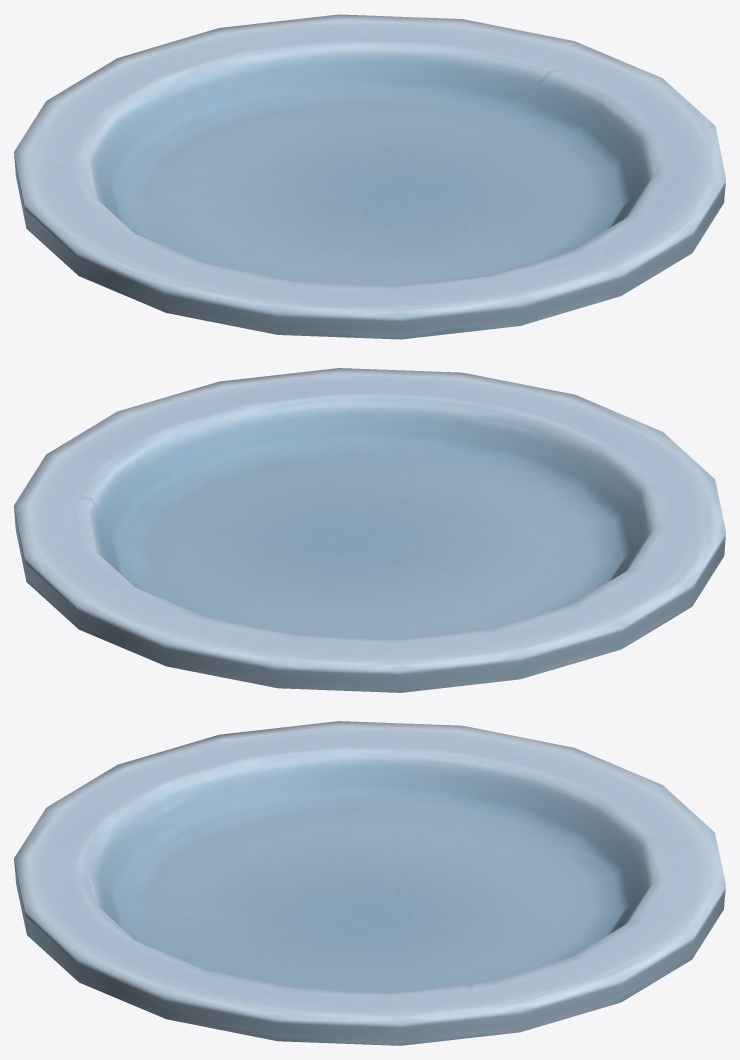
Rendered from Plate_Small.fbx.
3 renders of one model, top to bottom at view 1: azimuth 30°, elevation 25°; view 2: azimuth 150°, elevation 25°; view 3: azimuth 270°, elevation 25°, orthographic.
Visible parts, largest first — view 1: Plate_Small; view 2: Plate_Small; view 3: Plate_Small.
Part boxes in pixels (x1,y1,x2,y2): Plate_Small: (14, 14, 725, 339); Plate_Small: (14, 368, 725, 692); Plate_Small: (14, 721, 725, 1045).
Bounding box in the file's own units: 0.6975 × 0.0583 × 0.6978.
Materials: 1 (1 with a texture image).
